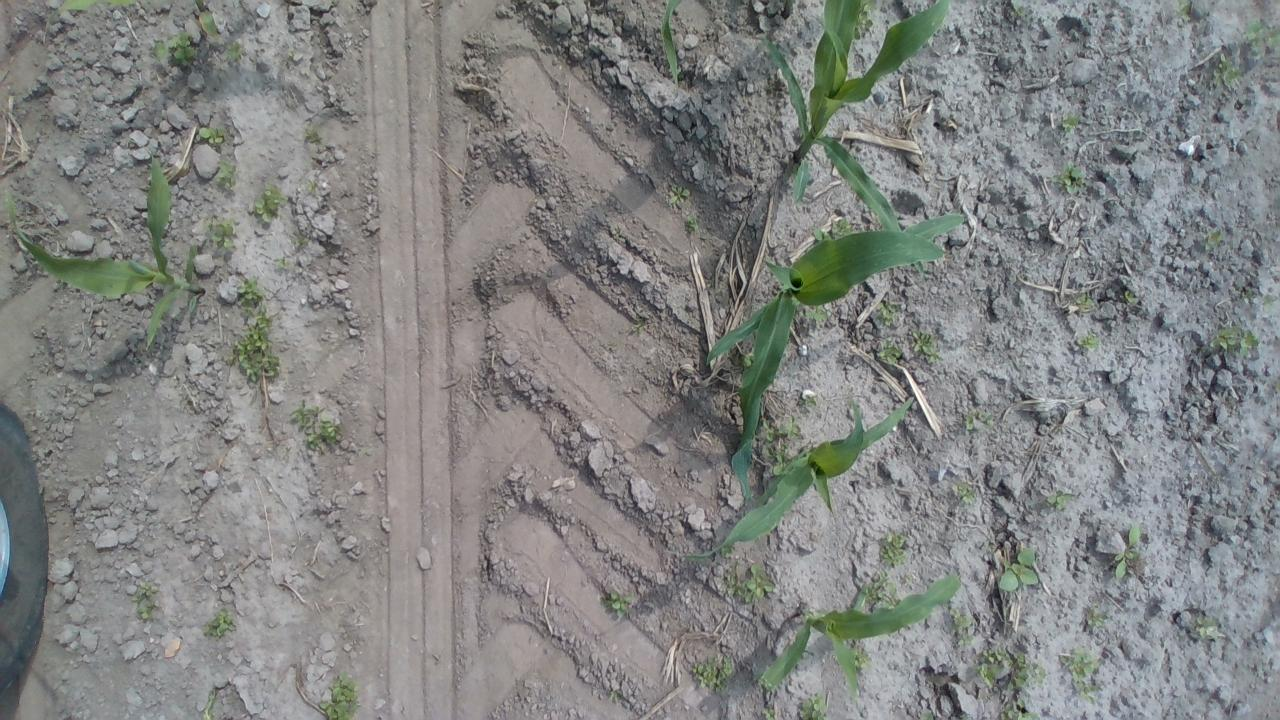Maize: (706, 212, 969, 501), (758, 0, 953, 277), (5, 138, 205, 352), (661, 396, 913, 560), (758, 572, 962, 706), (42, 1, 138, 43), (660, 1, 681, 84), (194, 0, 222, 39)
Weeds: (228, 307, 280, 382), (1057, 642, 1103, 706), (287, 398, 341, 449), (317, 666, 358, 720), (724, 562, 778, 603), (152, 26, 198, 68), (693, 654, 737, 696), (1000, 546, 1040, 592), (1209, 324, 1260, 360), (974, 640, 1010, 688), (1115, 522, 1144, 580), (864, 565, 901, 608), (235, 274, 268, 318), (1244, 19, 1278, 60), (254, 181, 288, 222), (1010, 650, 1046, 688), (1208, 50, 1242, 90), (876, 528, 910, 567), (1050, 158, 1085, 195), (133, 578, 160, 624), (202, 606, 238, 640), (202, 217, 240, 249), (762, 416, 804, 444), (948, 603, 974, 647), (912, 329, 944, 363), (796, 688, 830, 720), (600, 590, 634, 618), (1000, 698, 1042, 720), (949, 480, 978, 507), (215, 158, 238, 192), (876, 296, 900, 328), (762, 444, 785, 475), (877, 336, 902, 364), (1046, 489, 1076, 512), (1086, 602, 1111, 627), (1196, 614, 1220, 640), (854, 10, 874, 40), (302, 122, 325, 148), (198, 125, 228, 143), (668, 184, 691, 206), (202, 687, 217, 720), (1077, 332, 1103, 350), (1204, 228, 1223, 252), (1061, 112, 1083, 132), (856, 646, 874, 670), (1175, 0, 1192, 24), (272, 256, 296, 273), (292, 228, 310, 250), (228, 39, 245, 61), (796, 394, 822, 408), (1074, 291, 1095, 308), (804, 306, 828, 320), (1262, 292, 1277, 314), (978, 409, 994, 428), (685, 213, 699, 234), (631, 314, 647, 332), (963, 409, 976, 430), (1010, 0, 1027, 16), (739, 352, 753, 368), (760, 707, 777, 720), (860, 0, 880, 10), (306, 179, 318, 195), (607, 688, 619, 704), (356, 446, 374, 456), (1241, 289, 1254, 302), (721, 546, 735, 558), (1124, 289, 1134, 304), (904, 571, 914, 586), (919, 712, 936, 720), (608, 340, 620, 351), (612, 226, 622, 239), (497, 503, 508, 514), (764, 82, 776, 92), (958, 713, 974, 720), (282, 447, 292, 458), (287, 52, 297, 60)
